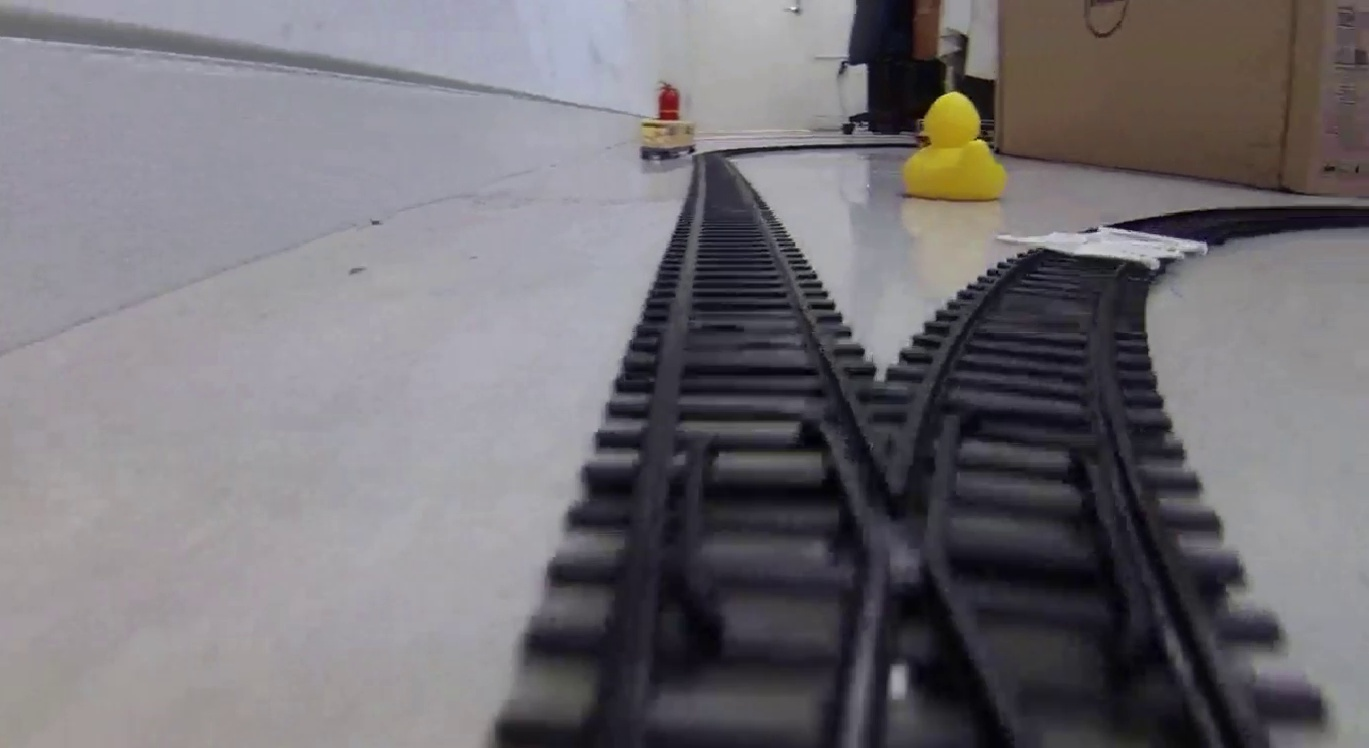web: (1005, 218, 1206, 271)
